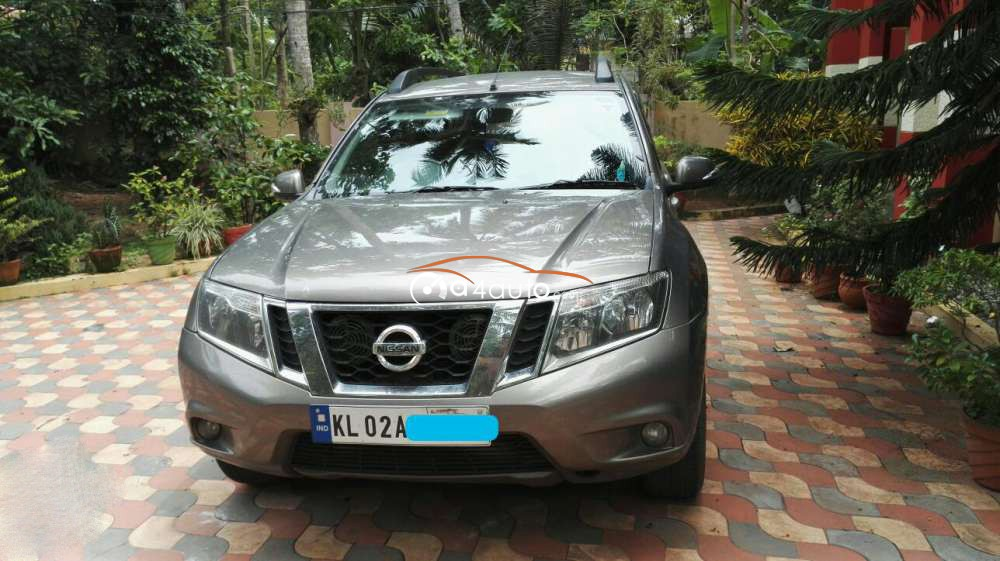number_plate: (302, 394, 505, 454)
